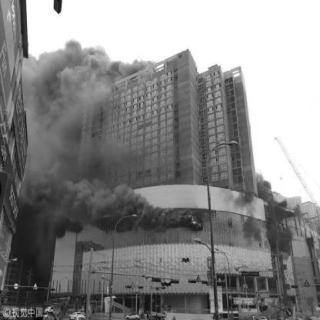Smoke: (267, 205, 286, 247)
other: (239, 270, 259, 278)
